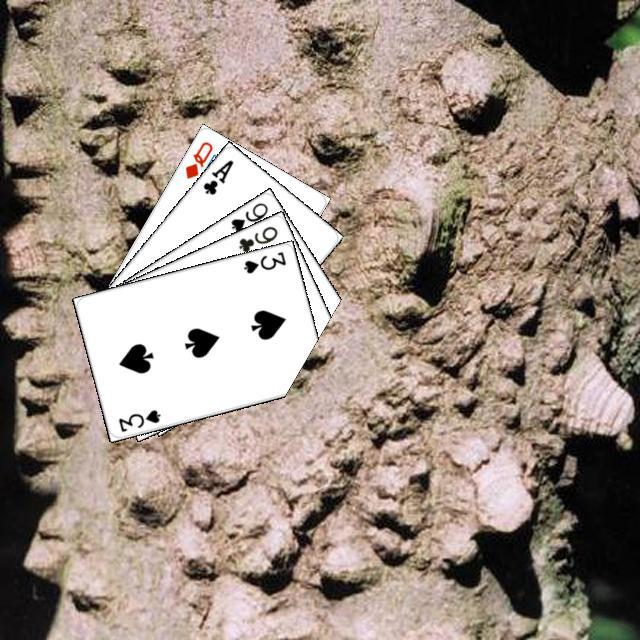3s: (113, 405, 162, 434), (238, 247, 287, 275)
9c: (233, 221, 279, 254)
9s: (226, 198, 270, 234)
Ac: (198, 155, 235, 197)
Qd: (180, 136, 214, 180)
